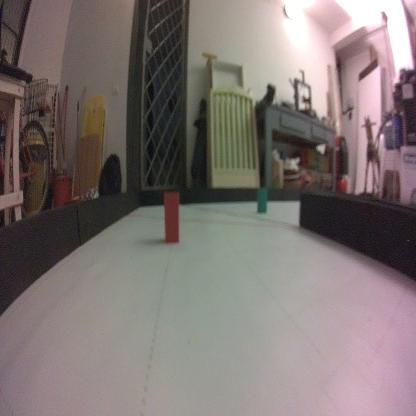green: (256, 186, 268, 218)
red: (162, 187, 181, 245)
